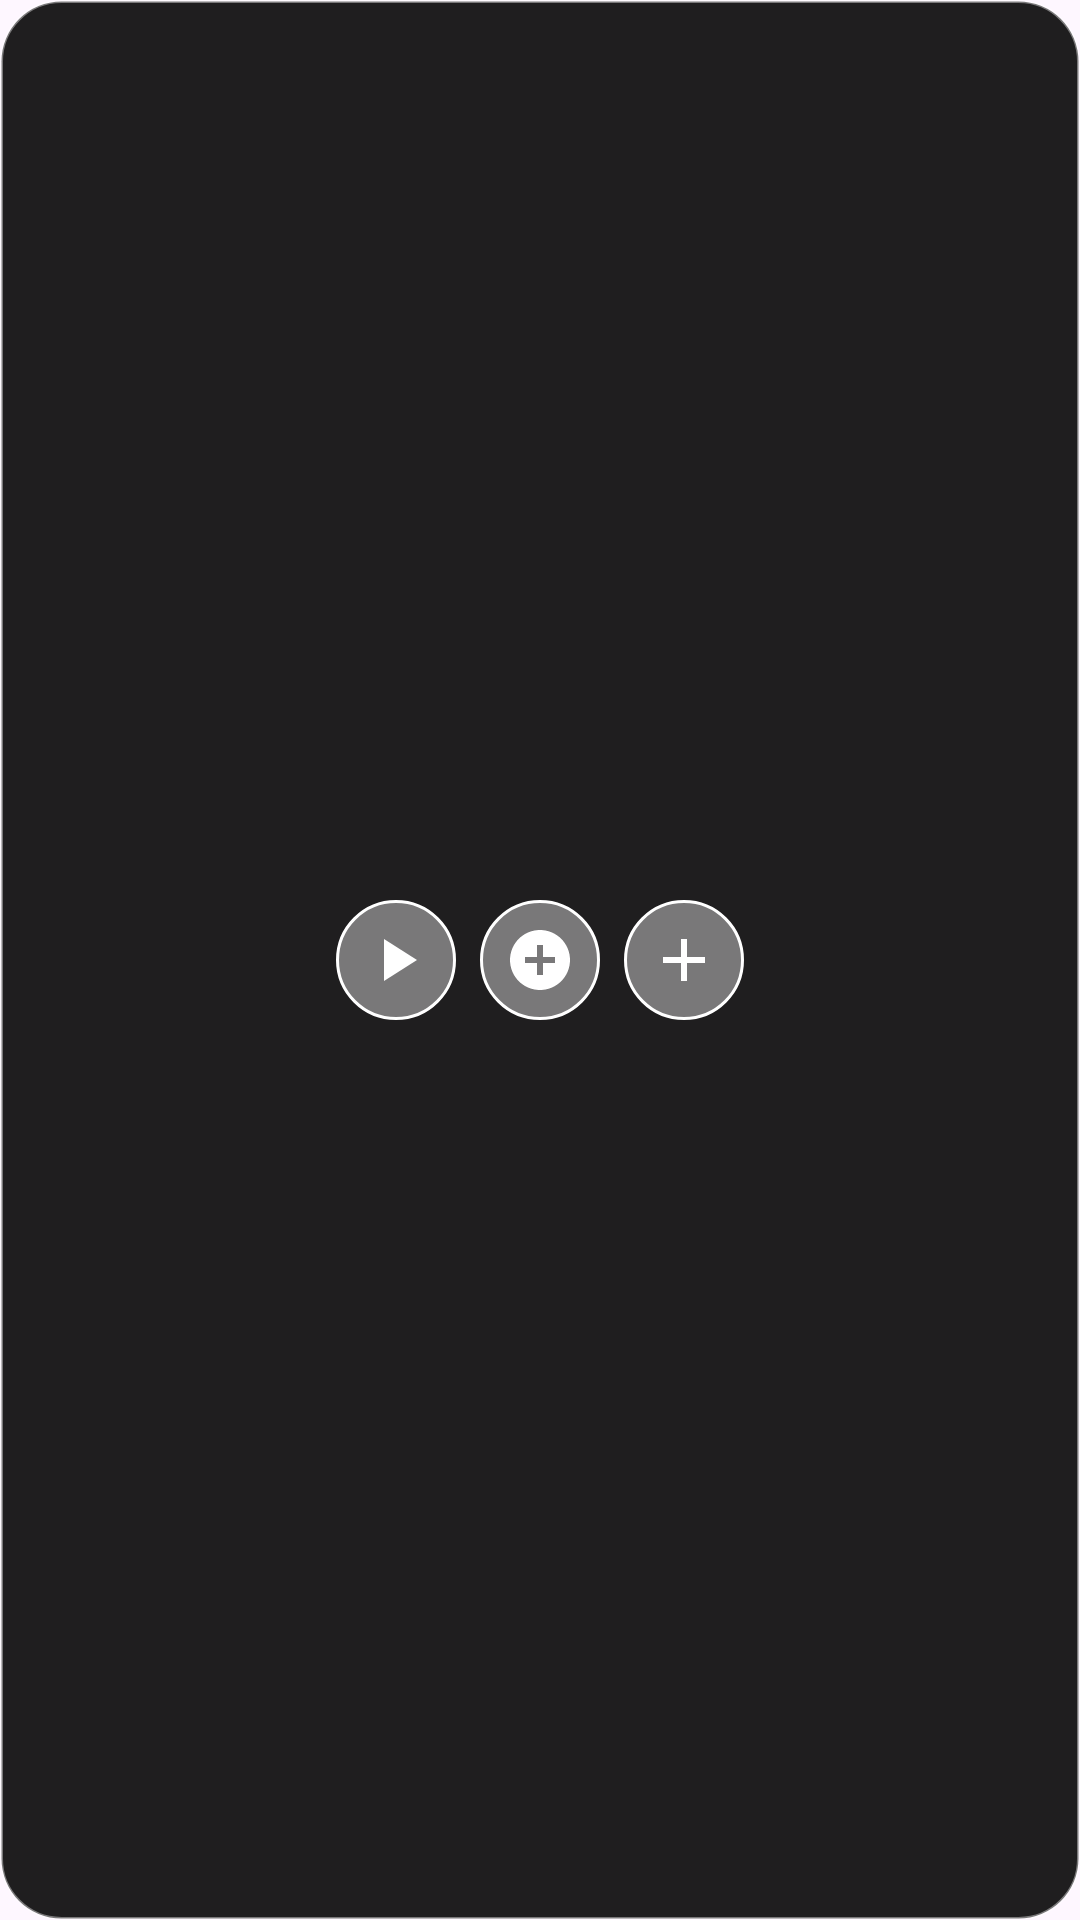

Icon bounding boxes for this 1080×1920 phone screenshot, format (x1, y1, x2, y2):
开始/停止: (336, 900, 456, 1020)
